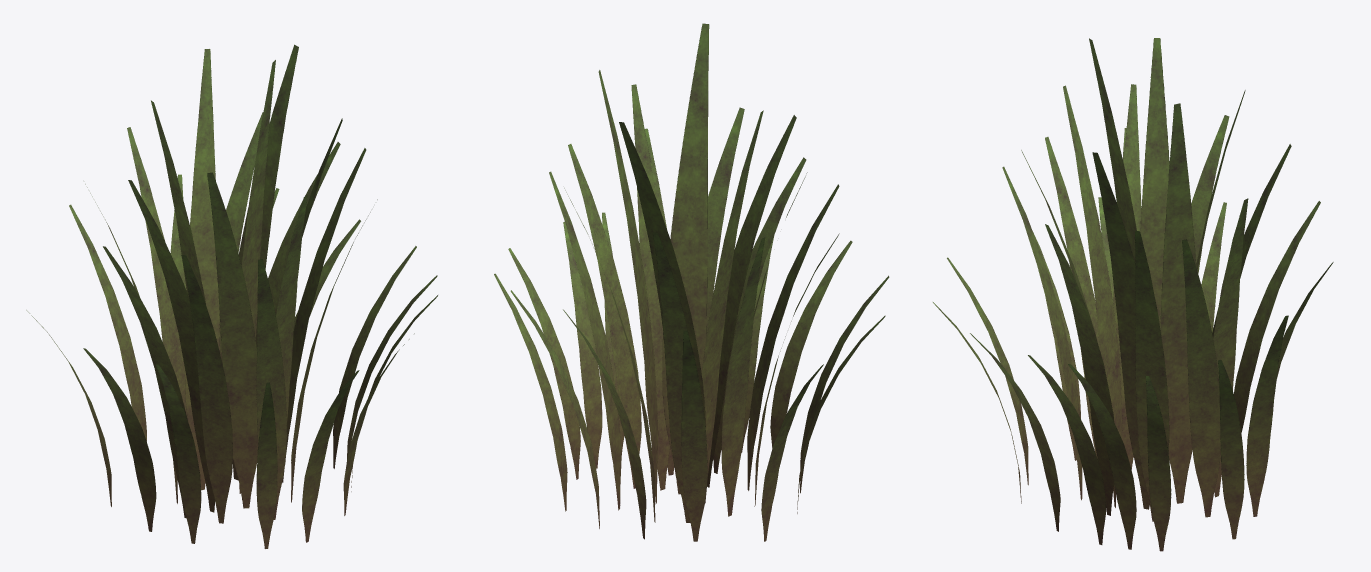
The model's file is grass_clump_001.fbx.
3 views of the same model, side by side, from view 1: azimuth 30°, elevation 25°; view 2: azimuth 150°, elevation 25°; view 3: azimuth 270°, elevation 25° (orthographic). The views are drawn at different scales.
Parts seen in each view (by area): view 1: grass_clump_LOD0; view 2: grass_clump_LOD0; view 3: grass_clump_LOD0.
Part boxes in pixels (x1,y1,x2,y2): grass_clump_LOD0: (26,44,437,548); grass_clump_LOD0: (494,23,889,541); grass_clump_LOD0: (933,38,1333,551).
Size of what is drawn, in the model's own units: 0.5404 by 0.6519 by 0.5317.
